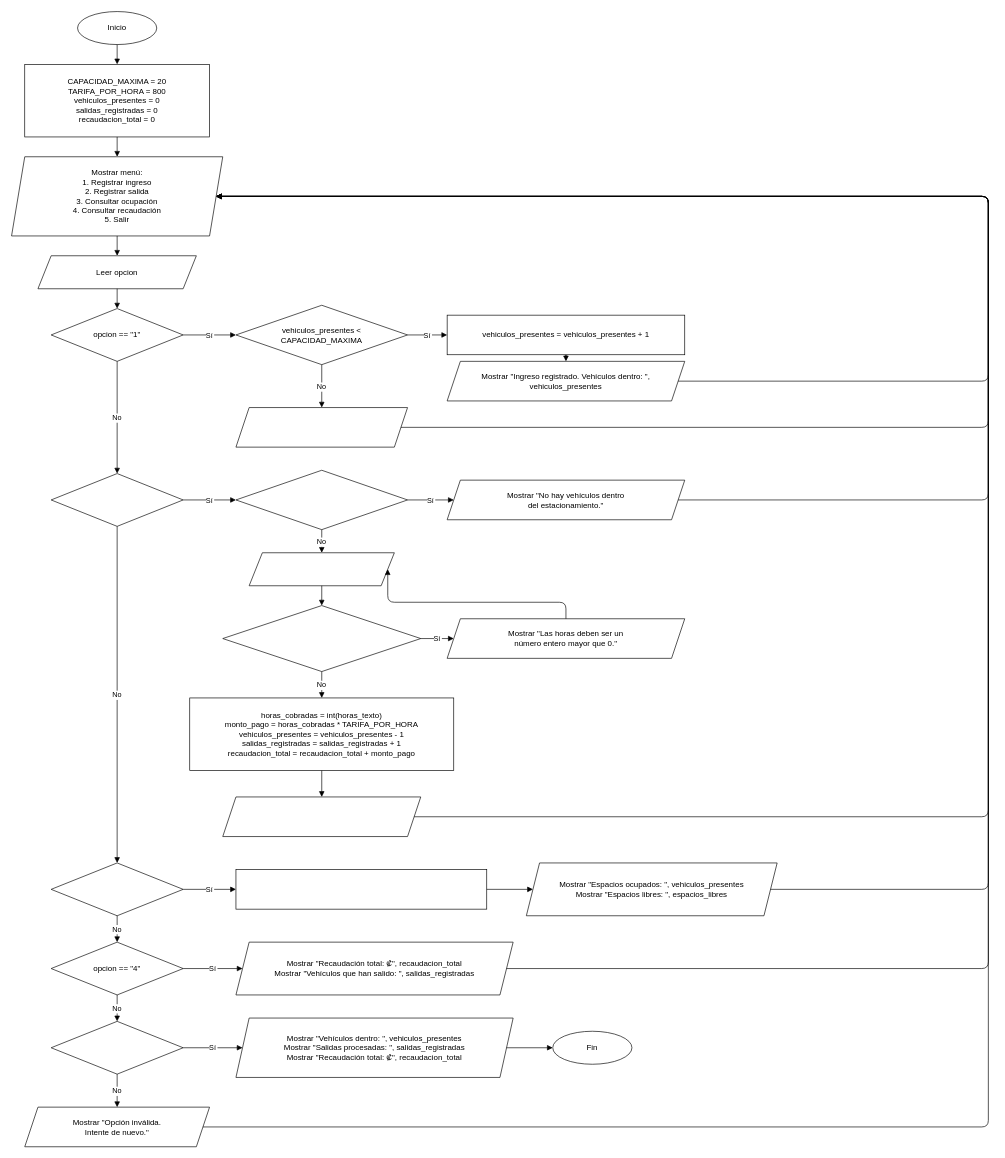
This 1005x1158 diagram has some shape labels left out. The centre of each missing label's shape, as x and y in pixels:
espacios_libres = CAPACIDAD_MAXIMA - vehiculos_presentes: pixel 361 889
Leer horas_texto: pixel 321 569
Mostrar "Estacionamiento lleno. No se puede registrar el ingreso.": pixel 321 427
Mostrar "Salida registrada. Monto a pagar: ₡", monto_pago: pixel 321 816
no horas_texto.isdigit() o int(horas_texto) == 0: pixel 321 638
opcion == "2": pixel 116 499
opcion == "3": pixel 116 889
opcion == "5": pixel 116 1047
vehiculos_presentes == 0: pixel 321 500
